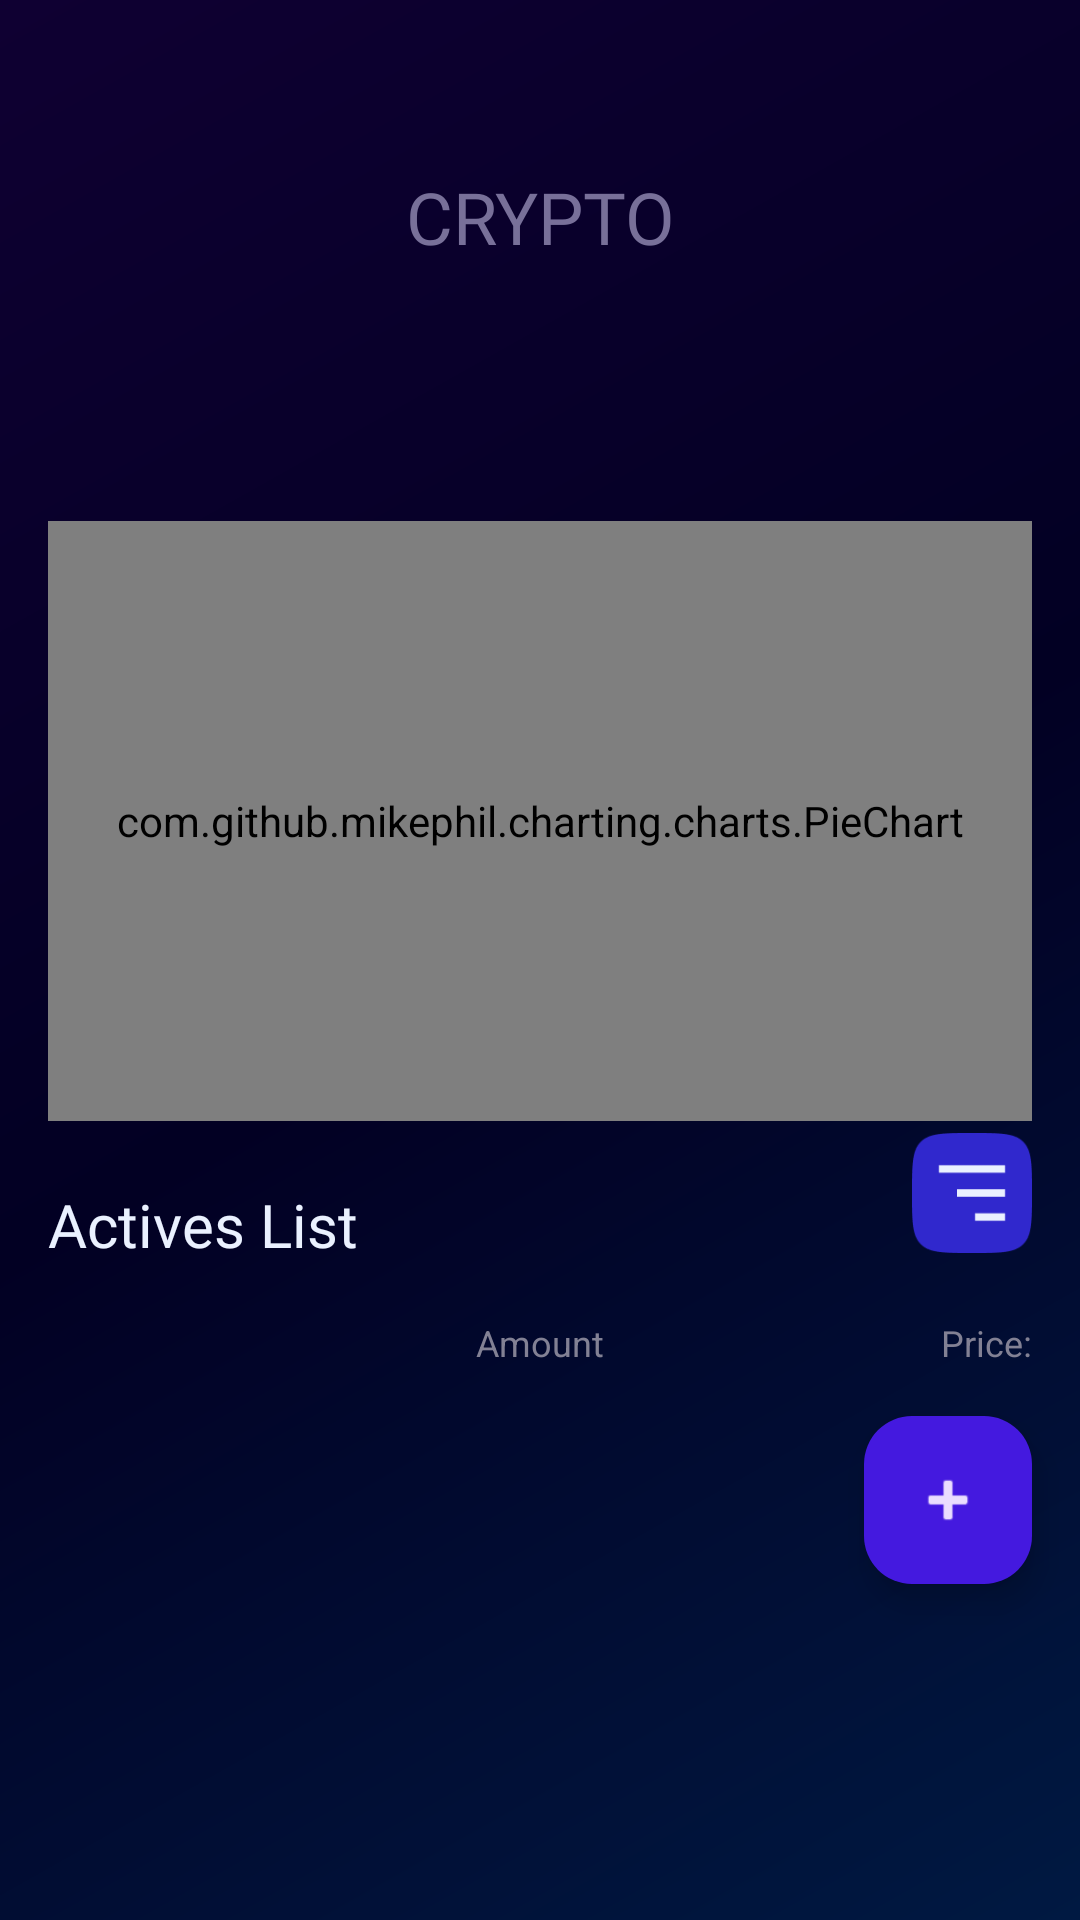

Where icons sit on this 1080w x 1920h app screen, as bbox(x1, y1, x2, y2):
add: bbox(864, 1416, 1032, 1584)
